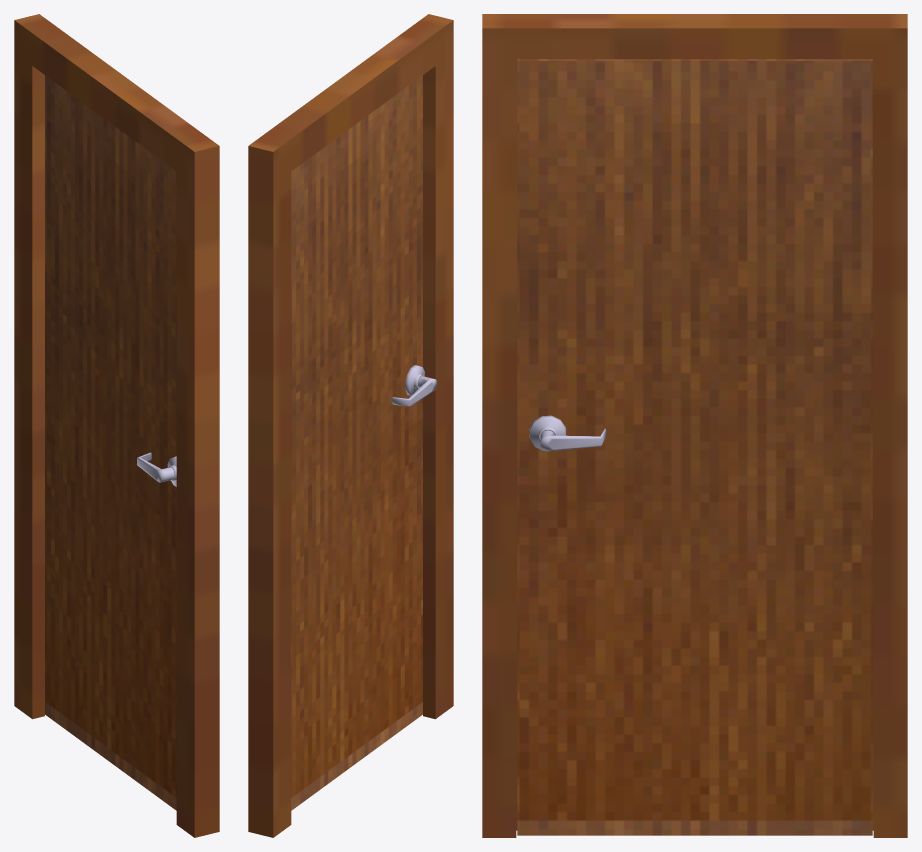
File: Door.fbx
3 renders of one model, left to right at view 1: azimuth 30°, elevation 25°; view 2: azimuth 150°, elevation 25°; view 3: azimuth 270°, elevation 25°, orthographic. The views are drawn at different scales.
Parts seen in each view (by area): view 1: Handle_Back, DoorFrame; view 2: Handle_Back, DoorFrame; view 3: Handle_Back, DoorFrame.
Boxes of the visible parts, bbox=[...] form: Handle_Back: bbox=[45, 75, 176, 810]; DoorFrame: bbox=[14, 14, 219, 837]; Handle_Back: bbox=[291, 75, 436, 810]; DoorFrame: bbox=[248, 14, 453, 837]; Handle_Back: bbox=[517, 59, 872, 835]; DoorFrame: bbox=[482, 14, 907, 837].
Bounding box in the file's own units: 16.9 × 210 × 100.
